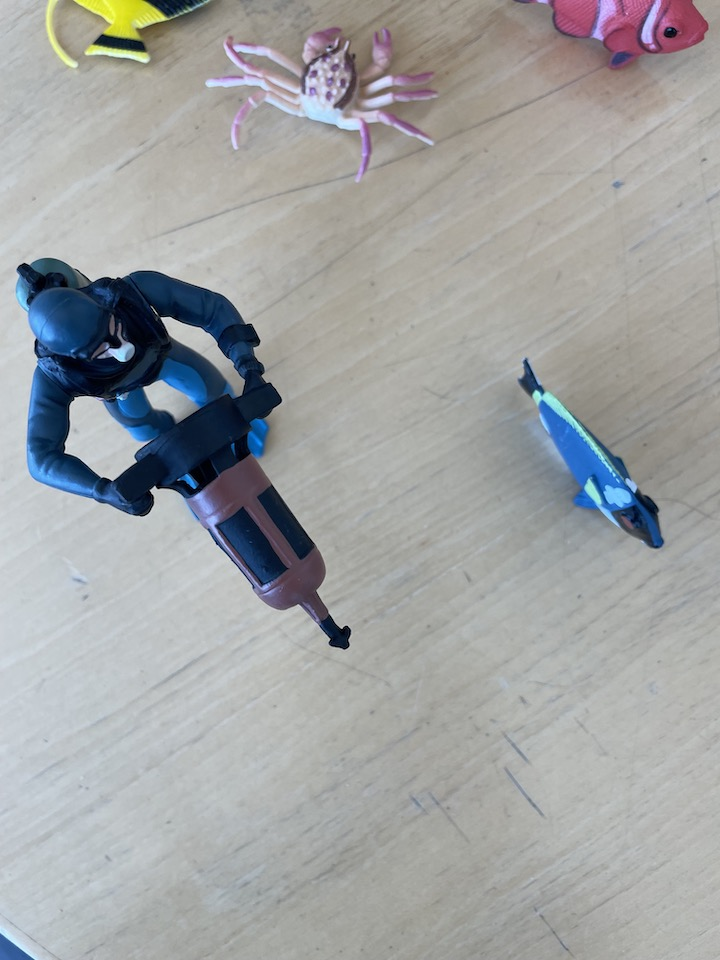crab: (202, 17, 445, 181)
danger: (40, 1, 224, 74)
diver: (8, 248, 359, 657)
fish: (510, 354, 668, 555), (509, 1, 710, 68)
